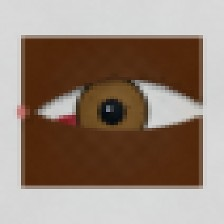hemorrhage_spot: (34, 91, 128, 166)
